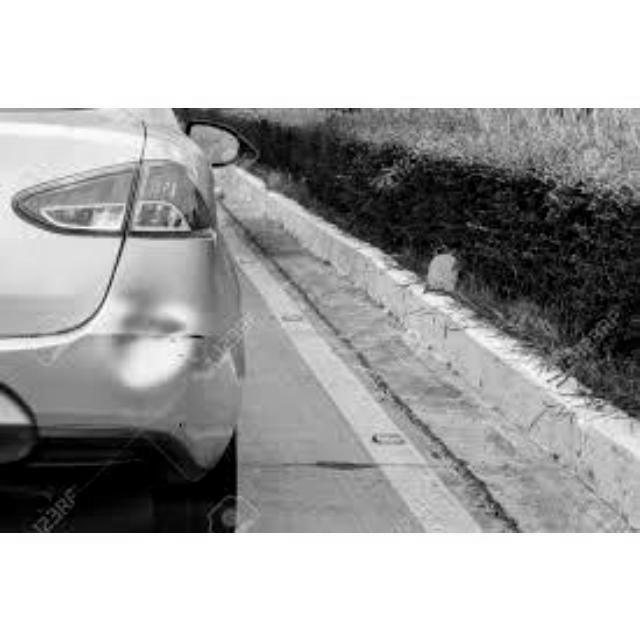rear-bumper-dent: (1, 287, 238, 480)
